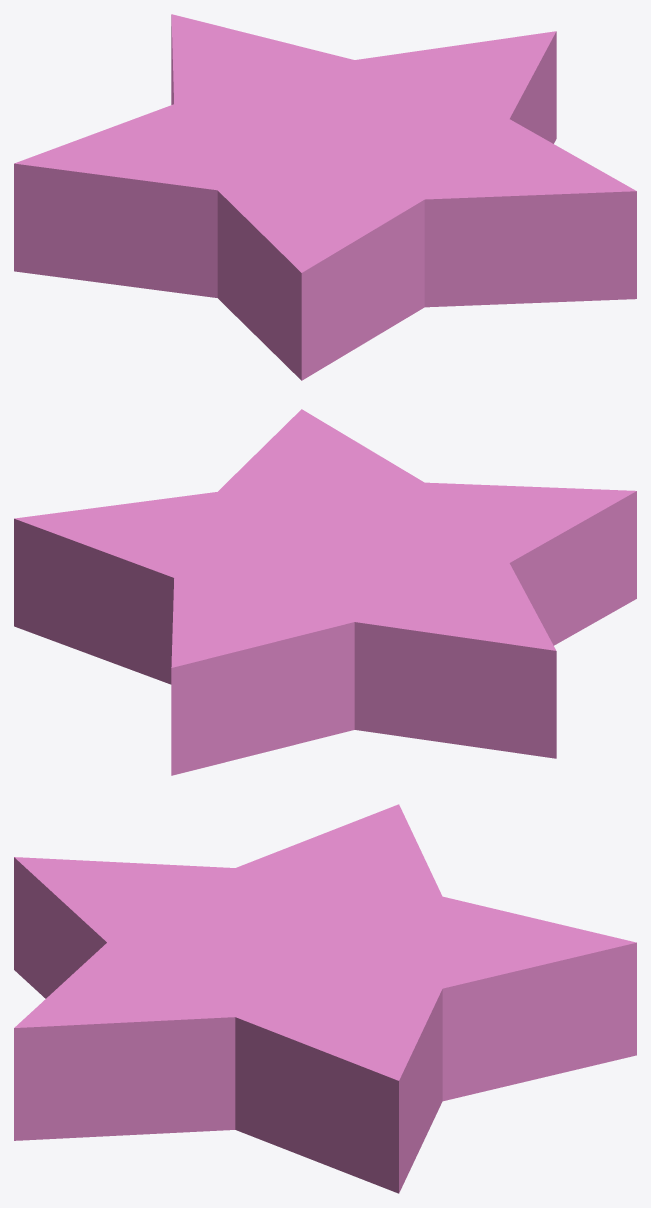
Rendered from star_pink.glb.
The picture shows the model from 3 angles, top to bottom: view 1: azimuth 30°, elevation 25°; view 2: azimuth 150°, elevation 25°; view 3: azimuth 270°, elevation 25°; orthographic projection. The views are drawn at different scales.
Visible parts, largest first — view 1: 円; view 2: 円; view 3: 円.
Boxes of the visible parts, x1=… form: 円: x1=14, y1=14, x2=636, y2=380; 円: x1=14, y1=409, x2=636, y2=775; 円: x1=14, y1=804, x2=636, y2=1193.
Bounding box in the file's own units: 1.9 × 0.3614 × 1.81.
